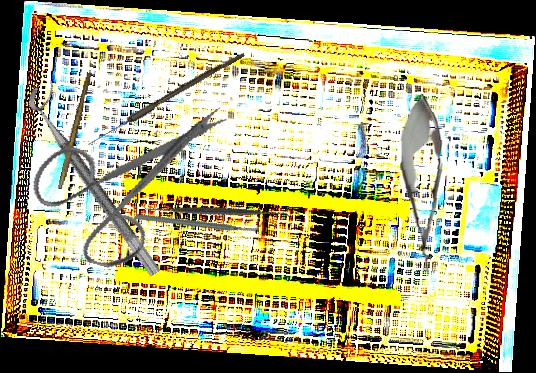Chopper: (133, 166, 264, 277)
Fixation Ring: (23, 78, 176, 278)
Iris Scissors: (16, 62, 232, 289)
Micro Scissor: (397, 93, 449, 274)
Scalpel Handle: (57, 71, 93, 191)
Spatula Surgical: (141, 136, 293, 287)
Surgical Spoon: (85, 48, 246, 150)
